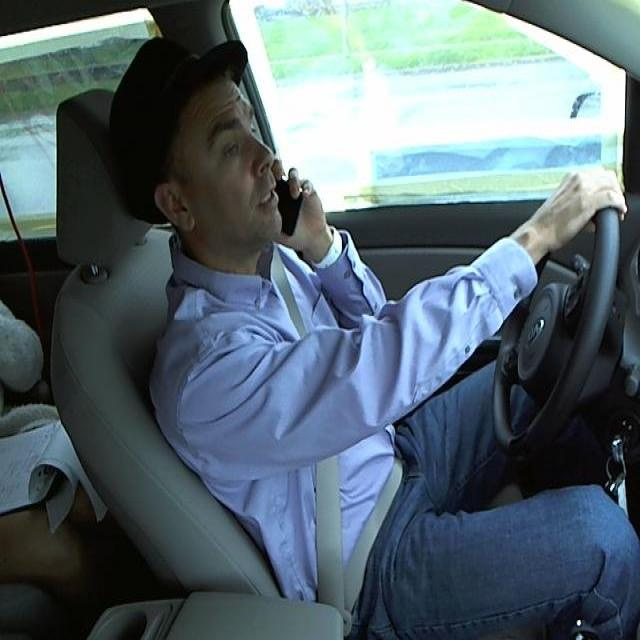using_phone: (144, 44, 306, 283)
